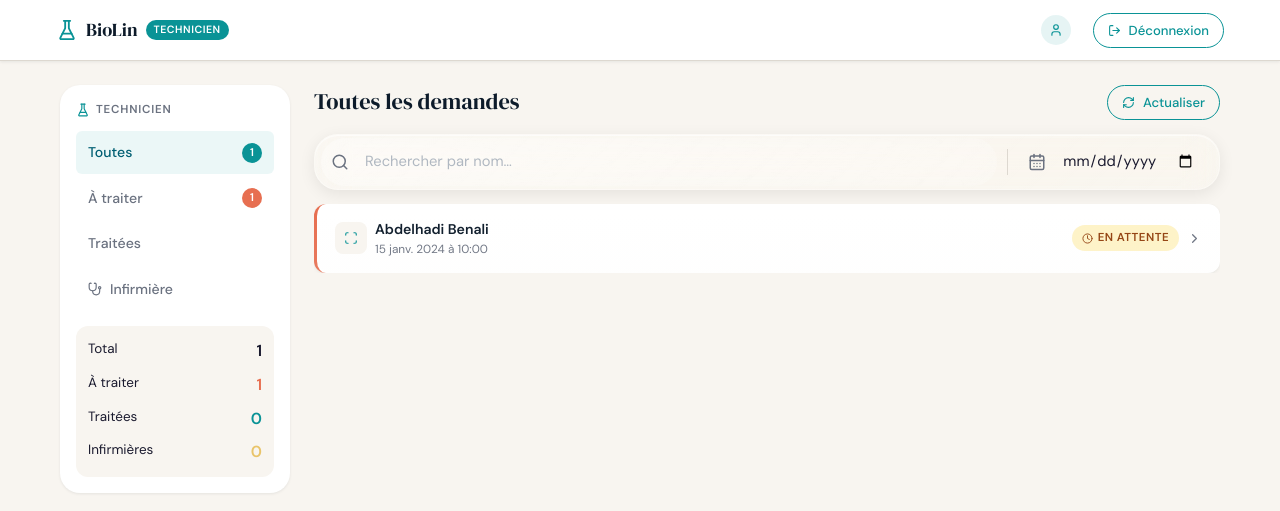
Test: WorkerDashboard — demand listing and search › shows no results for non-matching search
Expected: the text "Abdelhadi Benali" is shown, [375,218,489,240]
In the field with placeholder "Rechercher par nom…": (672, 162) [357,144,987,180], type "xyz"
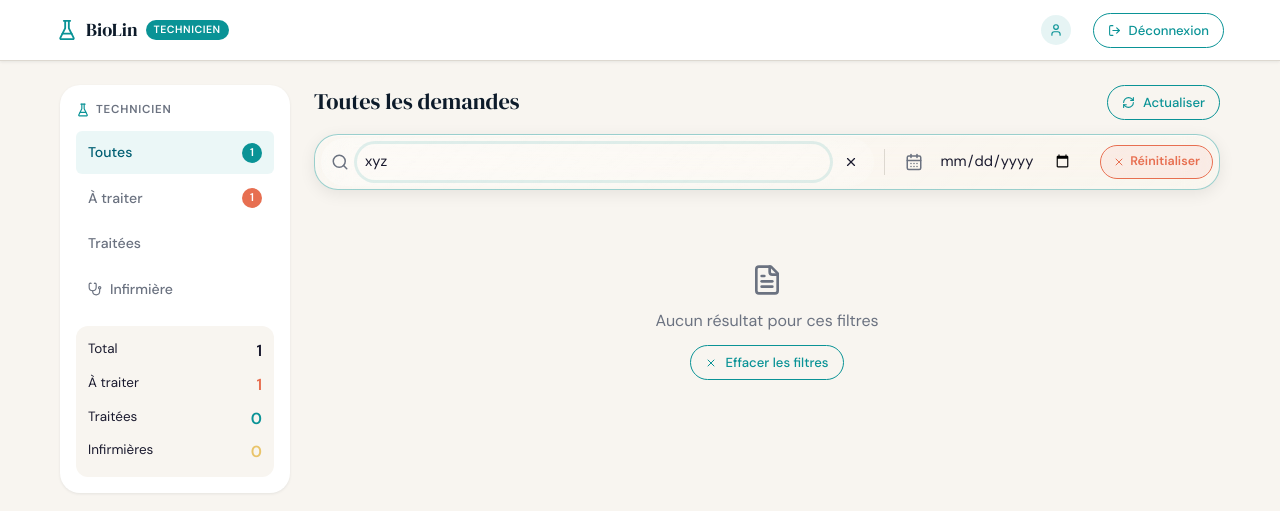
Result: the option "Abdelhadi" is gone
